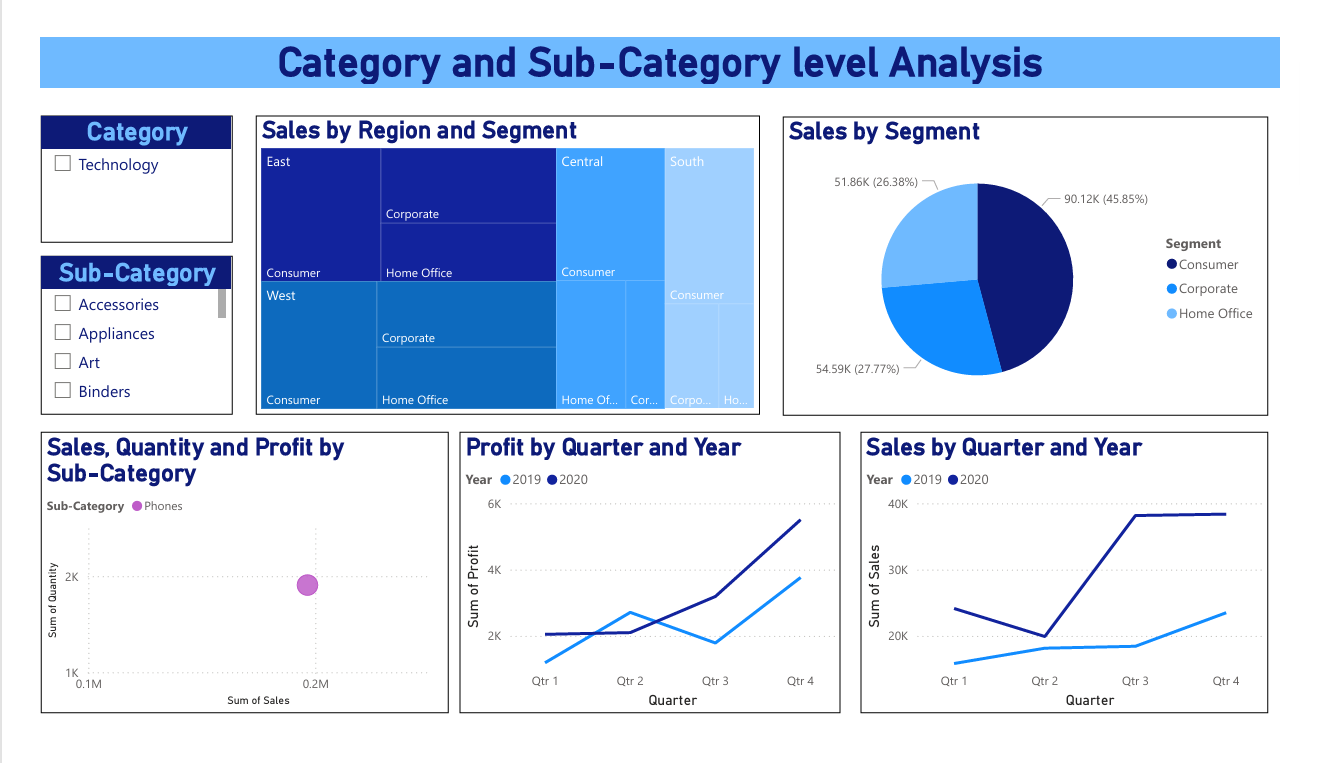

What the dashboard file says about the page in this screenshot:
{"tool":"powerbi","page":{"name":"Category and Sub-Category","canvas":[1280,720],"ordinal":2},"visuals":[{"type":"textbox","title":"Category and Sub-Category level Analysis","box":[15,15,1246.2,52.5],"z":0},{"type":"slicer","title":"Category","fields":{"Values":["Sheet1.Category"]},"box":[15,92.5,192.5,128.8],"z":1000},{"type":"slicer","title":"Sub-Category","fields":{"Values":["Sheet1.Sub-Category"]},"box":[15,233.8,192.5,160],"z":2000},{"type":"treemap","title":"Sales by Region and Segment","fields":{"Group":["Sheet1.Region"],"Details":["Sheet1.Segment"],"Values":["Sum(Sheet1.Sales)"]},"box":[231.2,92.5,506.2,301.2],"z":3000},{"type":"pieChart","title":"Sales by Segment","fields":{"Category":["Sheet1.Segment"],"Y":["Sum(Sheet1.Sales)"]},"box":[761.2,93.8,487.5,301.2],"z":4000},{"type":"scatterChart","title":"Sales, Quantity and Profit by Sub-Category","fields":{"Series":["Sheet1.Sub-Category"],"X":["Sum(Sheet1.Sales)"],"Y":["Sum(Sheet1.Quantity)"],"Size":["Sum(Sheet1.Profit)"]},"box":[15,411.2,410,282.5],"z":5000},{"type":"lineChart","title":"Profit by Quarter and Year","fields":{"Category":["Sheet1.Order Date.Variation.Date Hierarchy.Quarter"],"Y":["Sum(Sheet1.Profit)"],"Series":["Sheet1.Order Date.Variation.Date Hierarchy.Year"]},"box":[436.2,411.2,382.5,282.5],"z":6000},{"type":"lineChart","title":"Sales by Quarter and Year","fields":{"Category":["Sheet1.Order Date.Variation.Date Hierarchy.Quarter"],"Series":["Sheet1.Order Date.Variation.Date Hierarchy.Year"],"Y":["Sum(Sheet1.Sales)"]},"box":[838.8,411.2,410,282.5],"z":7000}]}

Visuals, with their boxes in screenshot pixels (x1, y1, x2, y2), scaled from the page's 1280x720 canvas onto the 1323x763 screenshot:
"Category and Sub-Category level Analysis" textbox: left=16, top=16, right=1304, bottom=72
"Category" slicer: left=16, top=98, right=214, bottom=235
"Sub-Category" slicer: left=16, top=248, right=214, bottom=417
"Sales by Region and Segment" treemap: left=239, top=98, right=762, bottom=417
"Sales by Segment" pieChart: left=787, top=99, right=1291, bottom=419
"Sales, Quantity and Profit by Sub-Category" scatterChart: left=16, top=436, right=439, bottom=735
"Profit by Quarter and Year" lineChart: left=451, top=436, right=846, bottom=735
"Sales by Quarter and Year" lineChart: left=867, top=436, right=1291, bottom=735
